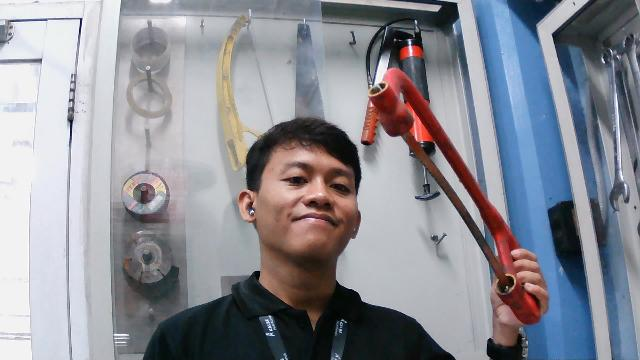gergaji_besi: (363, 65, 558, 330)
